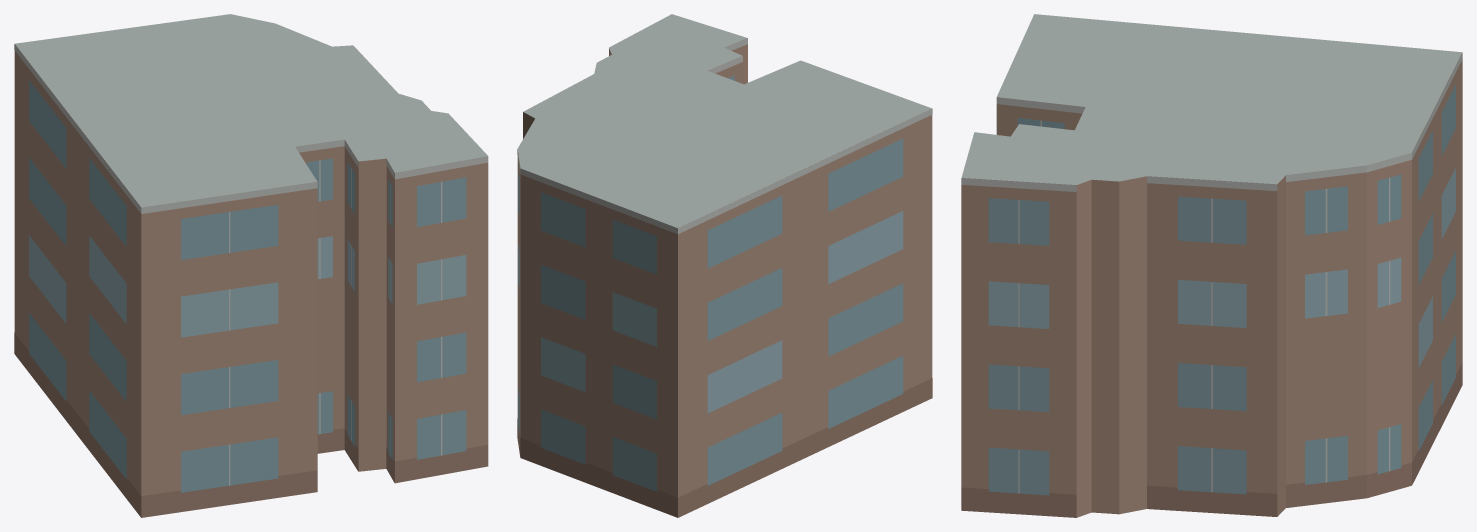
The model's file is survey-upis-32642568.glb.
The picture shows the model from 3 angles, left to right: view 1: azimuth 30°, elevation 25°; view 2: azimuth 150°, elevation 25°; view 3: azimuth 270°, elevation 25°; orthographic projection. The views are drawn at different scales.
Visible parts, largest first — view 1: survey-upis-32642568.tmp; view 2: survey-upis-32642568.tmp; view 3: survey-upis-32642568.tmp.
Part boxes in pixels (box(x1,y1,x2,y2)): survey-upis-32642568.tmp: box(14, 14, 488, 517); survey-upis-32642568.tmp: box(517, 14, 932, 517); survey-upis-32642568.tmp: box(961, 14, 1462, 517).
Size of the model in its own units: 12.91 by 11.7 by 15.98.
